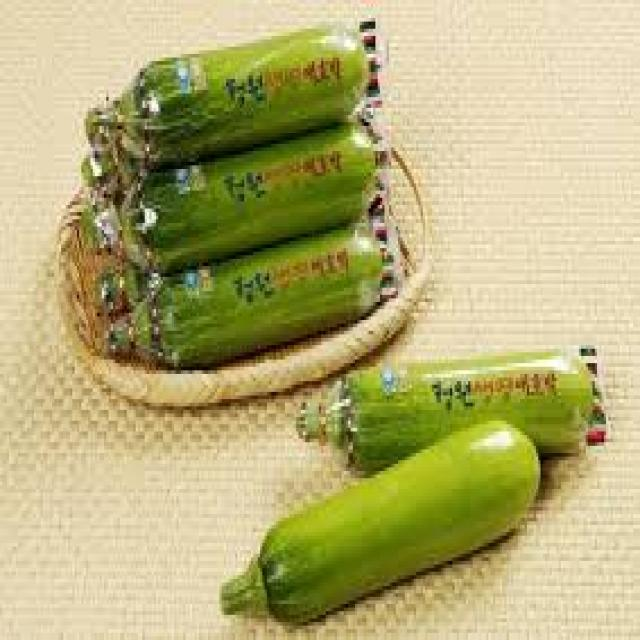zucchini: (222, 421, 543, 624)
